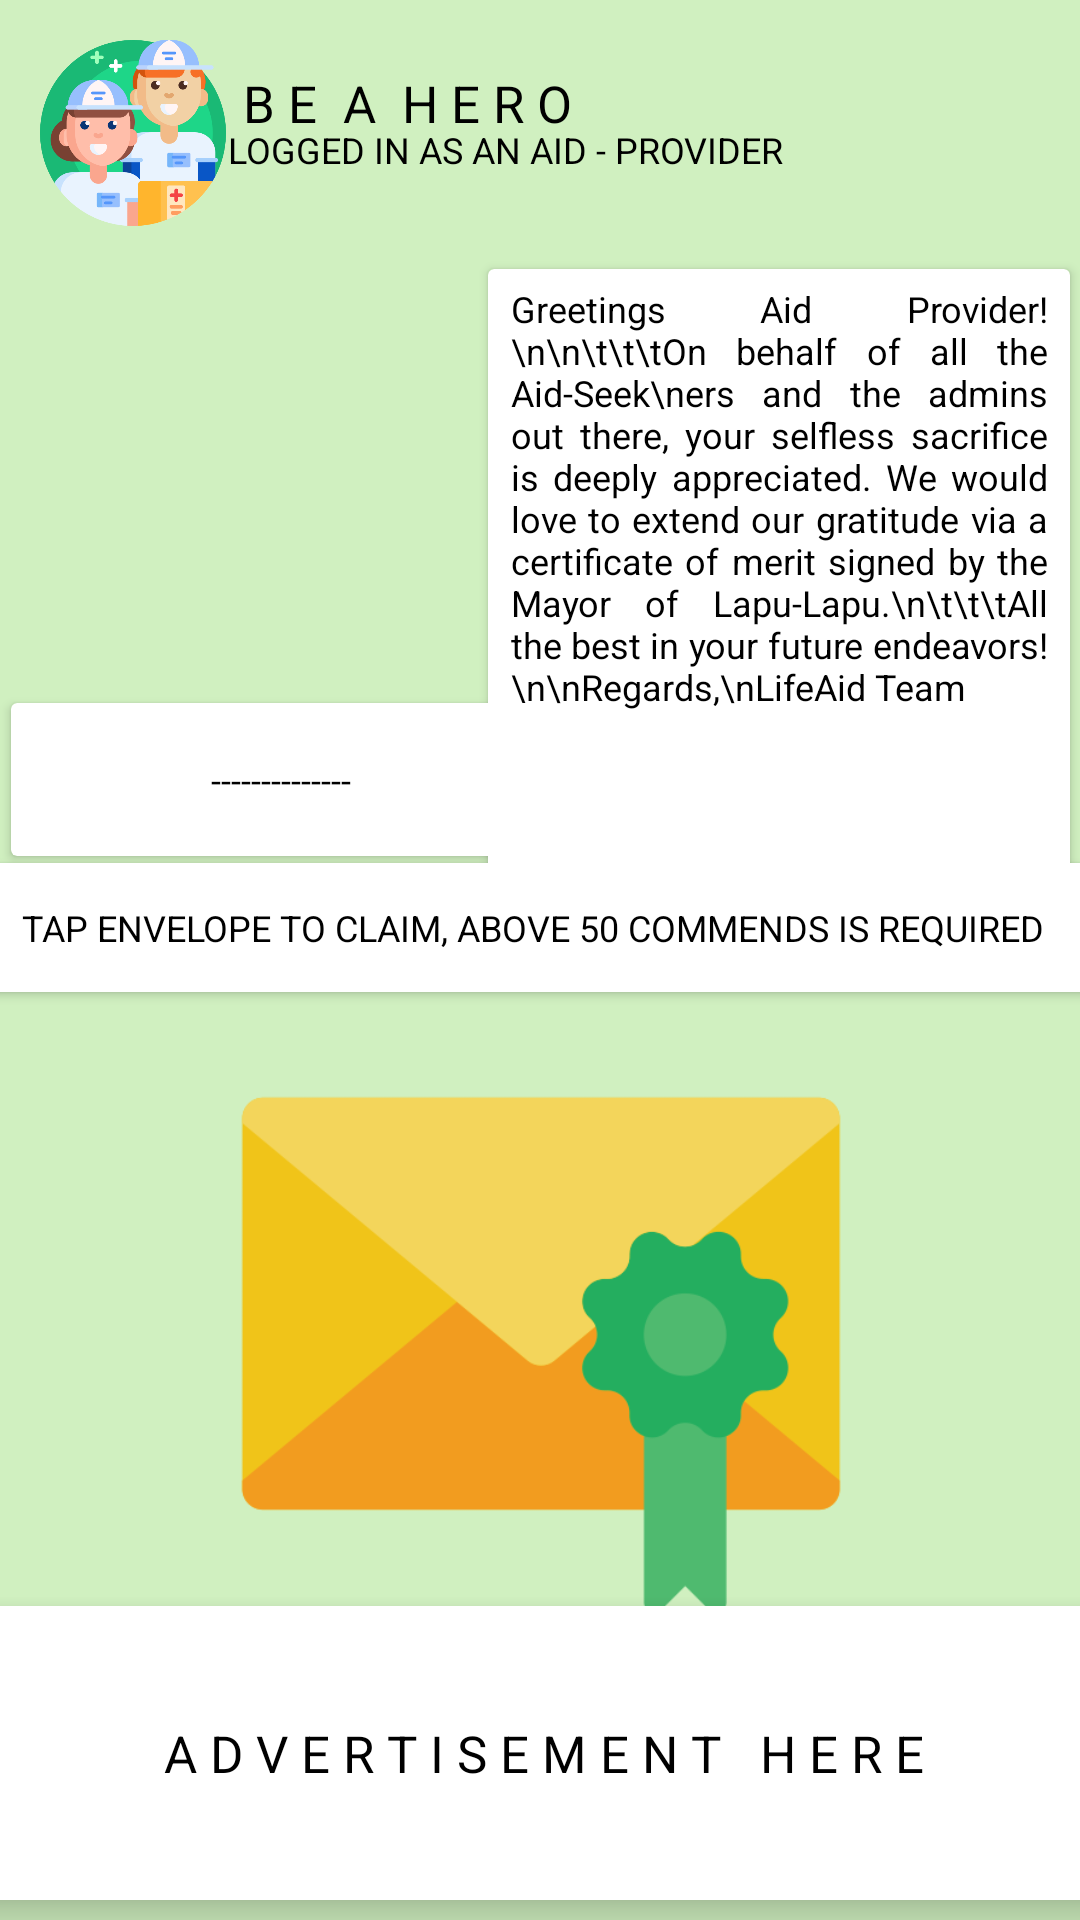

Point at icon controls on the screen. Image size 1080x1920, points as [x,y].
volunteer: [133,133]
